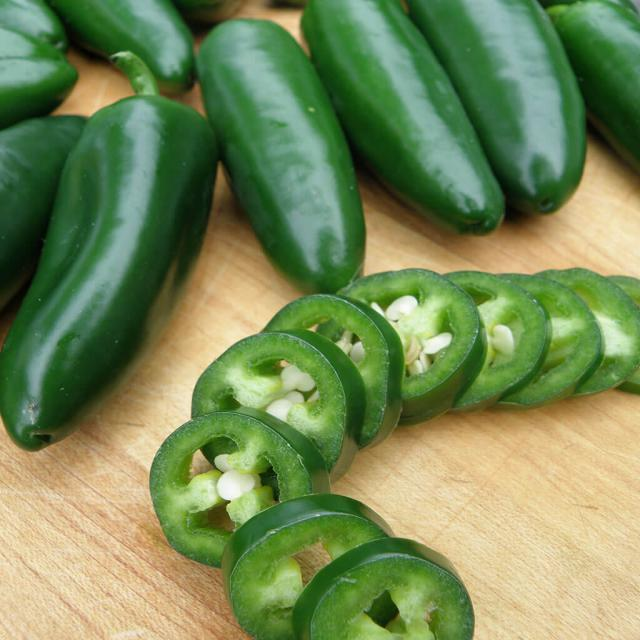aji: (154, 270, 640, 640), (0, 91, 195, 429), (184, 13, 375, 283), (308, 6, 509, 244)
